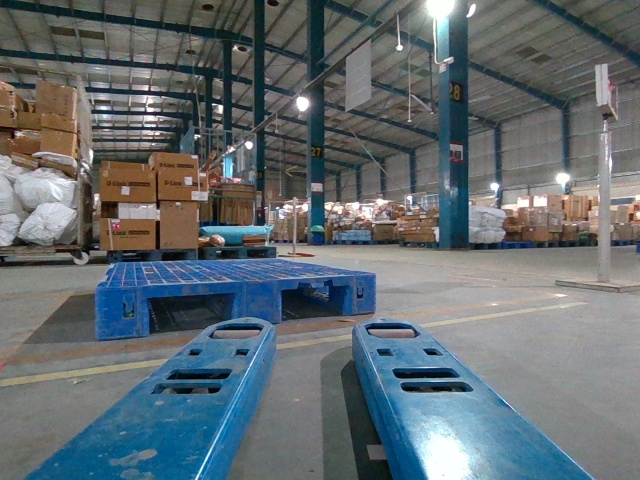block: (95, 284, 151, 343), (232, 278, 283, 324), (348, 273, 377, 318)
front: (96, 273, 376, 340)
hole pallet: (145, 289, 238, 337), (279, 286, 353, 324)
